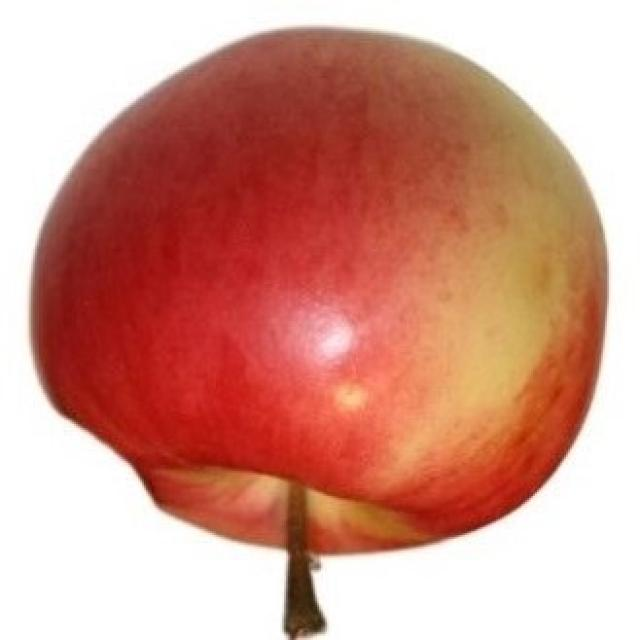75-_ripeness: (24, 19, 605, 556)
